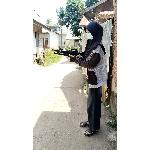Senapan: (49, 46, 89, 60)
